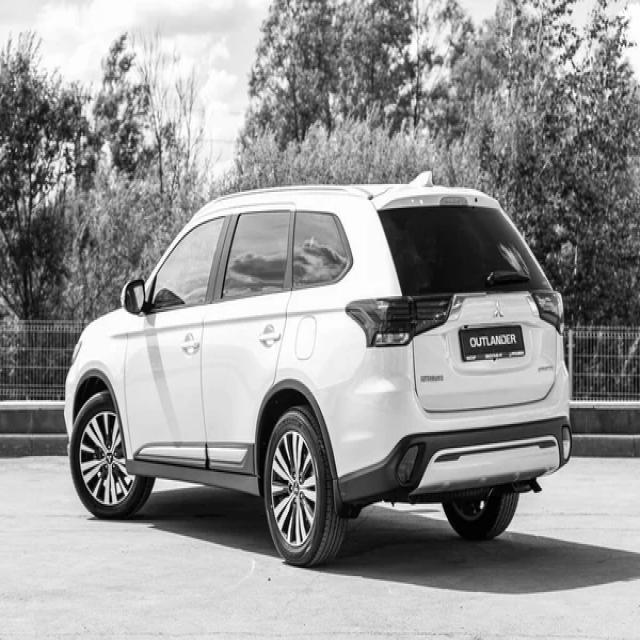Car: (64, 173, 574, 567)
